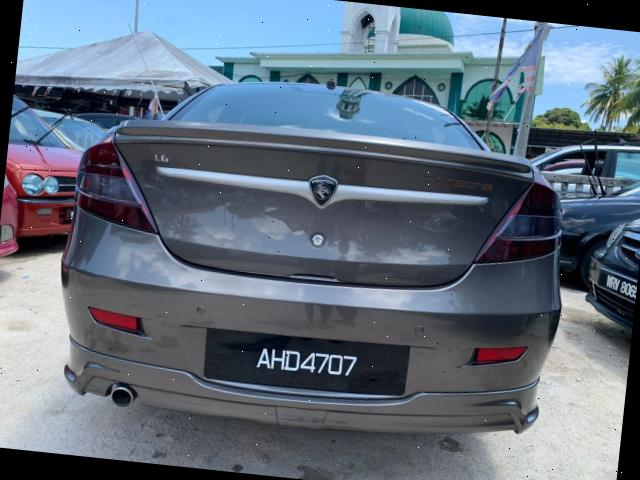License_Plate: (214, 330, 393, 390), (594, 269, 639, 310)
car: (52, 46, 573, 437)
